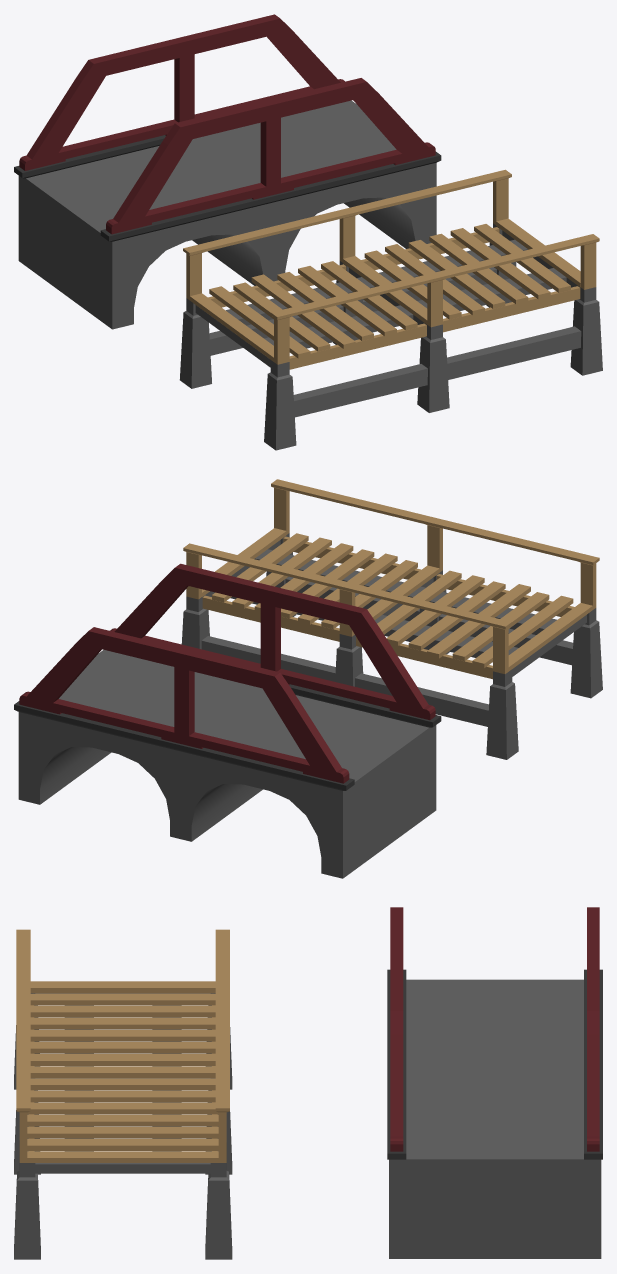
File: bridges.fbx
3 renders of one model, top to bottom at view 1: azimuth 30°, elevation 25°; view 2: azimuth 150°, elevation 25°; view 3: azimuth 270°, elevation 25°, orthographic. The views are drawn at different scales.
Visible parts, largest first — view 1: Cube, wooden_brige; view 2: Cube, wooden_brige; view 3: Cube, wooden_brige.
Part boxes in pixels (left/top/right/bottom): Cube: left=14, top=14, right=441, bottom=329; wooden_brige: left=179, top=169, right=602, bottom=450; Cube: left=14, top=563, right=441, bottom=878; wooden_brige: left=181, top=479, right=602, bottom=759; Cube: left=387, top=907, right=602, bottom=1258; wooden_brige: left=14, top=929, right=232, bottom=1259.
Bounding box in the file's own units: 1640 × 872 × 2217.
